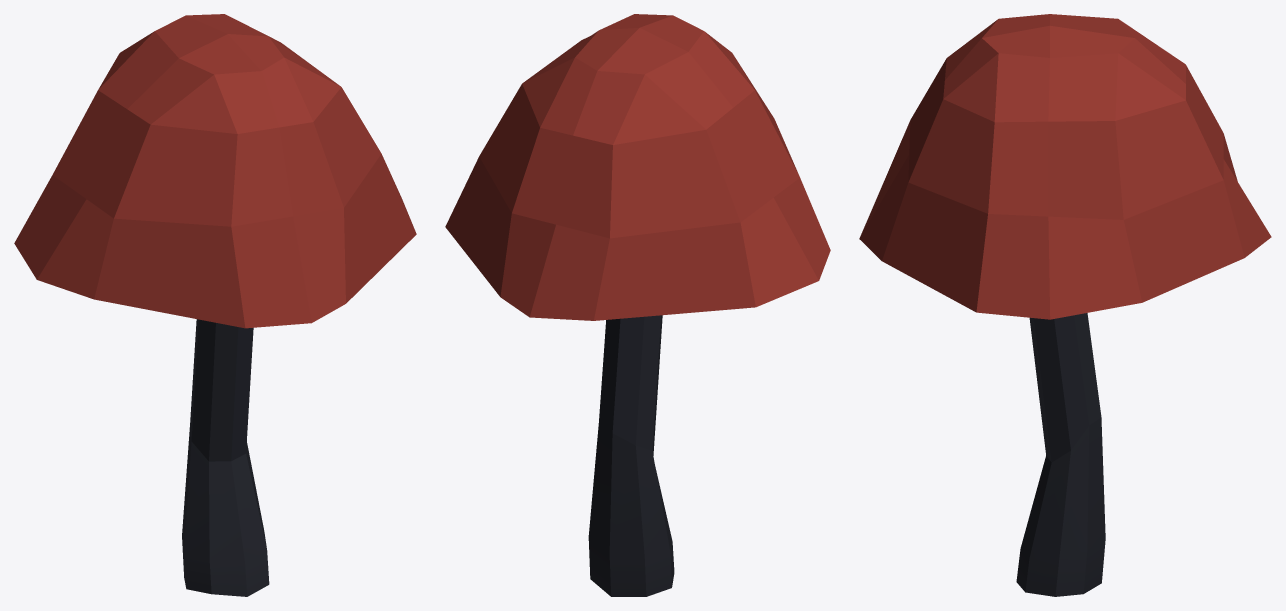
The model's file is Mushroom1.fbx.
The picture shows the model from 3 angles, left to right: view 1: azimuth 30°, elevation 25°; view 2: azimuth 150°, elevation 25°; view 3: azimuth 270°, elevation 25°; orthographic projection.
Parts seen in each view (by area): view 1: Mushroom1; view 2: Mushroom1; view 3: Mushroom1.
Boxes of the visible parts, left/top/right/bottom form: Mushroom1: left=14, top=14, right=416, bottom=596; Mushroom1: left=445, top=14, right=830, bottom=596; Mushroom1: left=859, top=14, right=1271, bottom=596.
Size of the model in its own units: 1.32 by 1.94 by 1.31.
